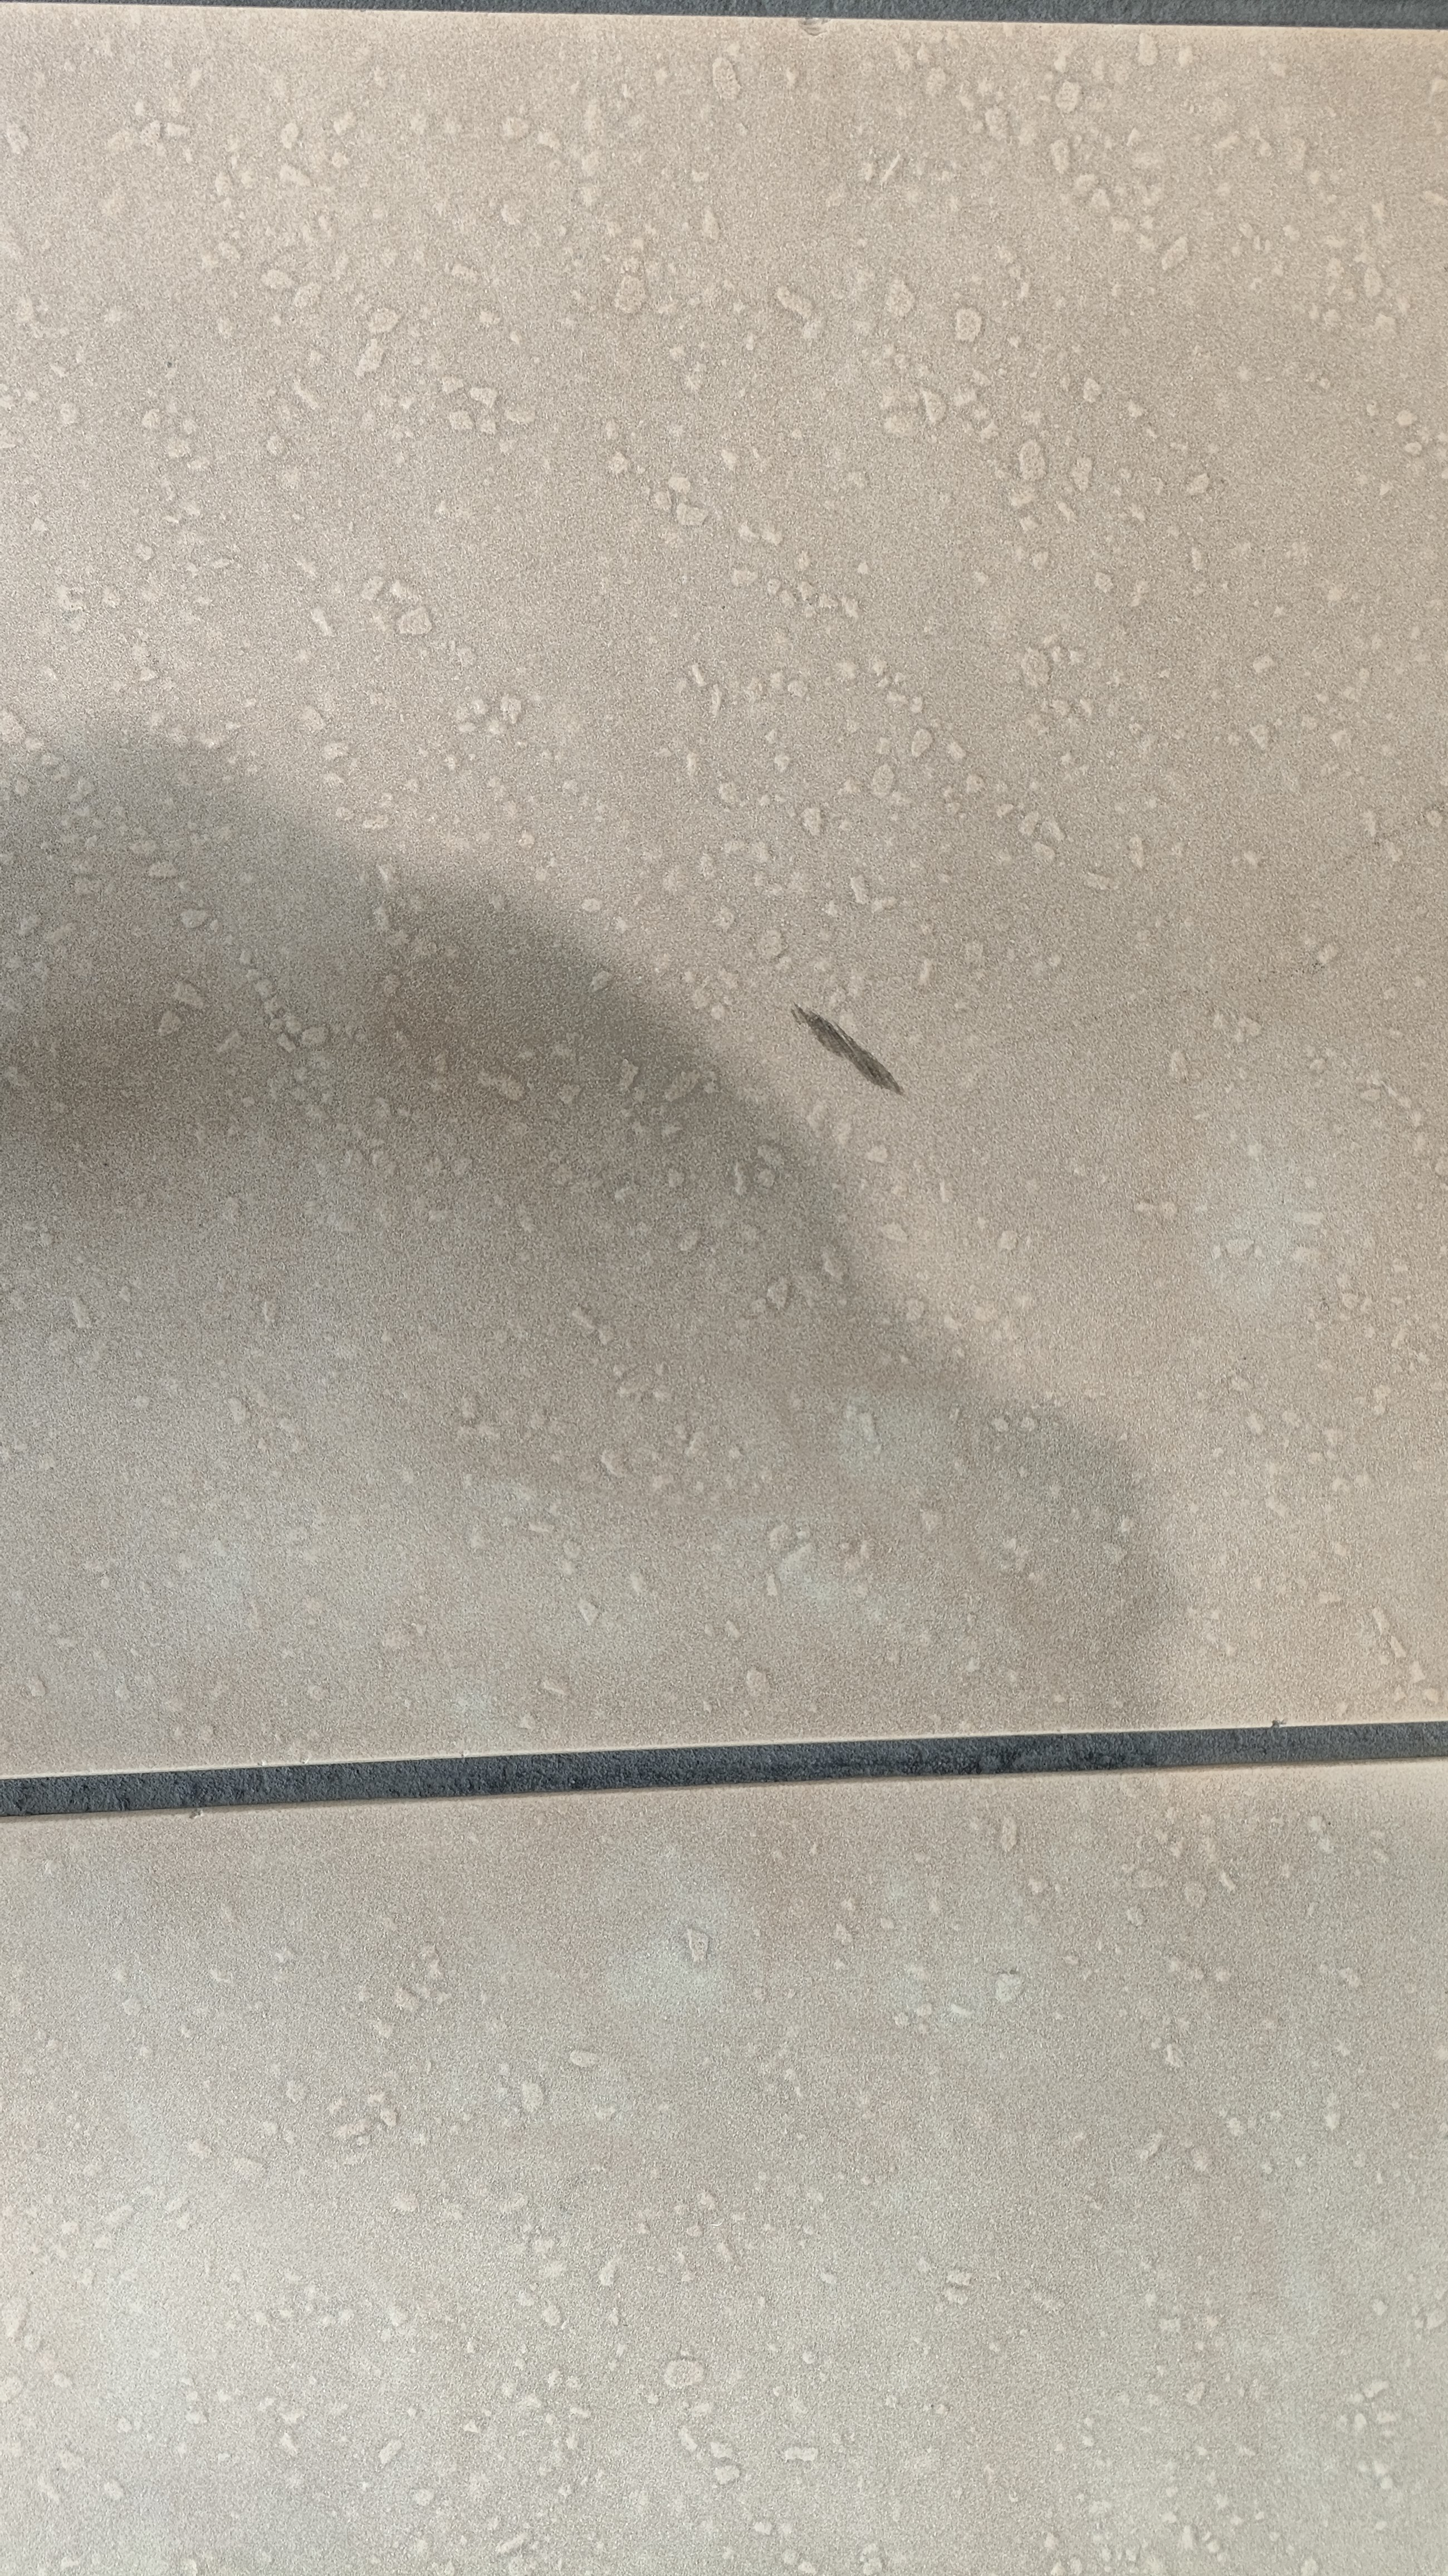Stain: (783, 991, 928, 1108)
